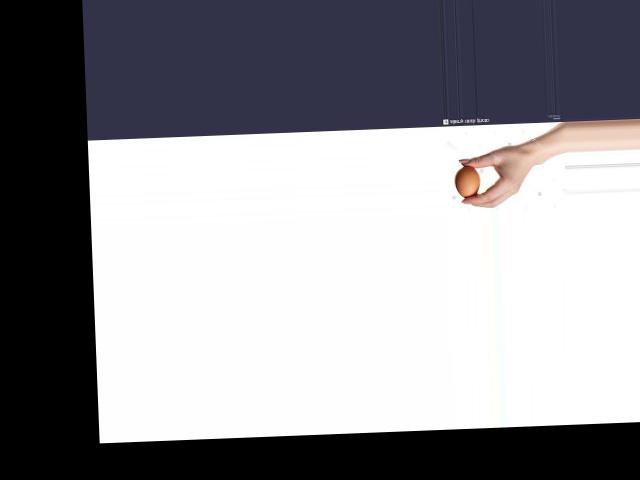egg: (454, 165, 482, 197)
